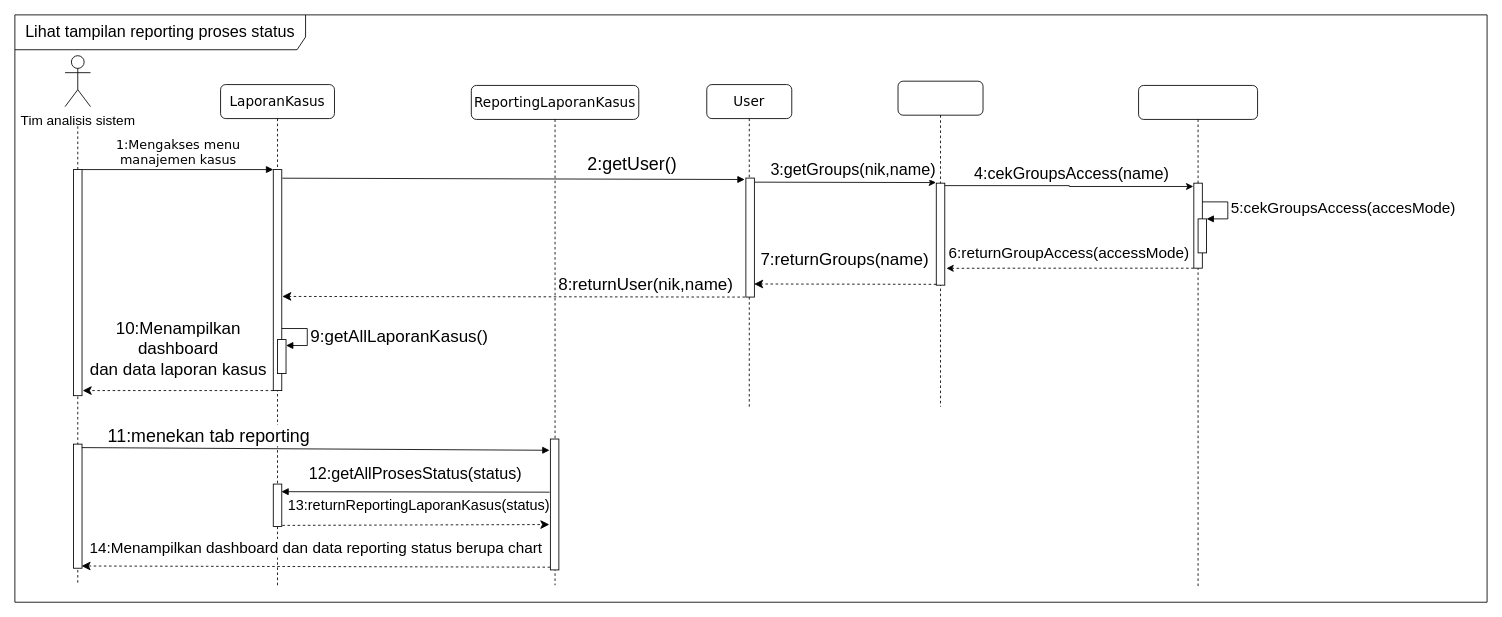
Image size: 1502x617. Some labels were removed from this diagram. The shapes that lost their labels are listed below. From the top down, each one's box as (x1, y1, x2, y2) in pixels, then its label:
(897, 80, 983, 407): Groups
(1138, 85, 1258, 586): GroupsAccess
